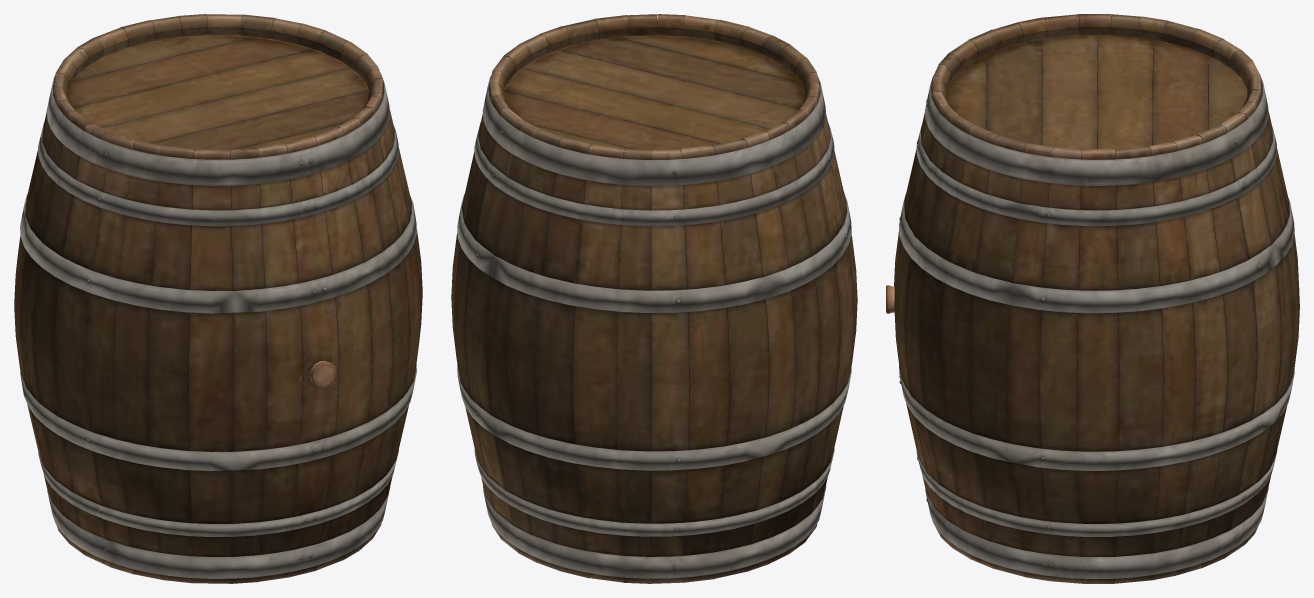
Rendered from wine_barrel_01.glb.
The picture shows the model from 3 angles, left to right: view 1: azimuth 30°, elevation 25°; view 2: azimuth 150°, elevation 25°; view 3: azimuth 270°, elevation 25°; orthographic projection.
Visible parts, largest first — view 1: wine_barrel_01, wine_barrel_01_Lid, wine_barrel_01_bung; view 2: wine_barrel_01, wine_barrel_01_Lid; view 3: wine_barrel_01, wine_barrel_01_Lid.
Boxes of the visible parts, left/top/right/bottom form: wine_barrel_01: left=14, top=14, right=422, bottom=583; wine_barrel_01_Lid: left=67, top=35, right=368, bottom=149; wine_barrel_01_bung: left=310, top=361, right=336, bottom=388; wine_barrel_01: left=451, top=14, right=857, bottom=583; wine_barrel_01_Lid: left=503, top=35, right=805, bottom=152; wine_barrel_01: left=894, top=14, right=1299, bottom=583; wine_barrel_01_Lid: left=946, top=35, right=1247, bottom=149.
Bounding box in the file's own units: 0.7419 × 0.8713 × 0.756.
1 material, 1 textured.
